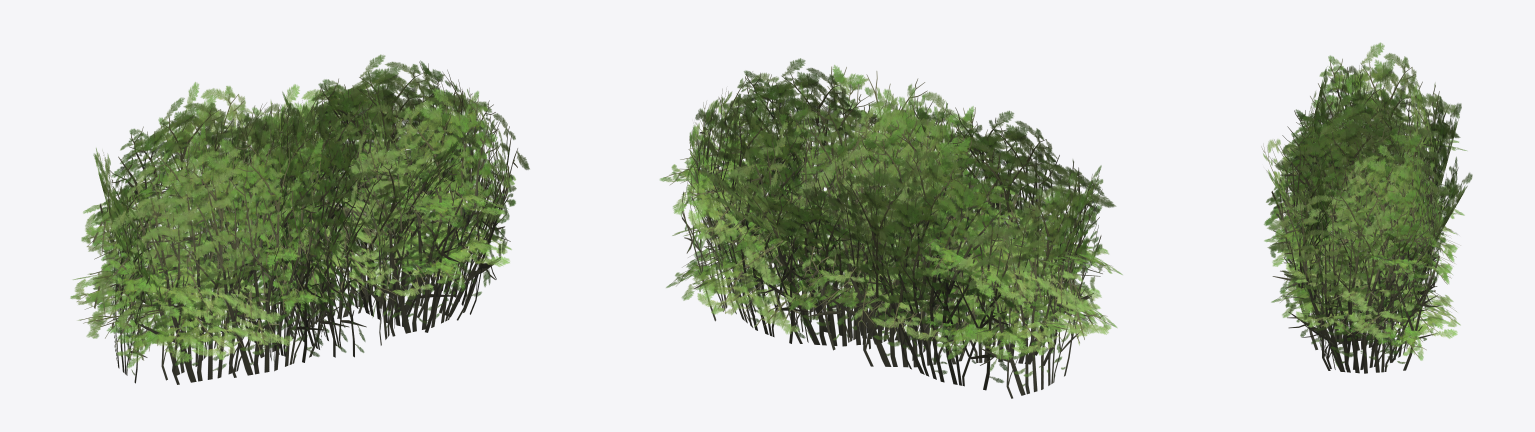
File: shrub1.glb
3 views of the same model, side by side, from view 1: azimuth 30°, elevation 25°; view 2: azimuth 150°, elevation 25°; view 3: azimuth 270°, elevation 25° (orthographic). The views are drawn at different scales.
Parts seen in each view (by area): view 1: Hedge-01; view 2: Hedge-01; view 3: Hedge-01.
Part boxes in pixels (box(x1,y1,x2,y2)): Hedge-01: box(70, 54, 529, 384); Hedge-01: box(659, 58, 1122, 398); Hedge-01: box(1261, 42, 1472, 373).
Size of the model in its own units: 3.17 by 1.41 by 1.84.
Materials: 2 (2 with a texture image).
